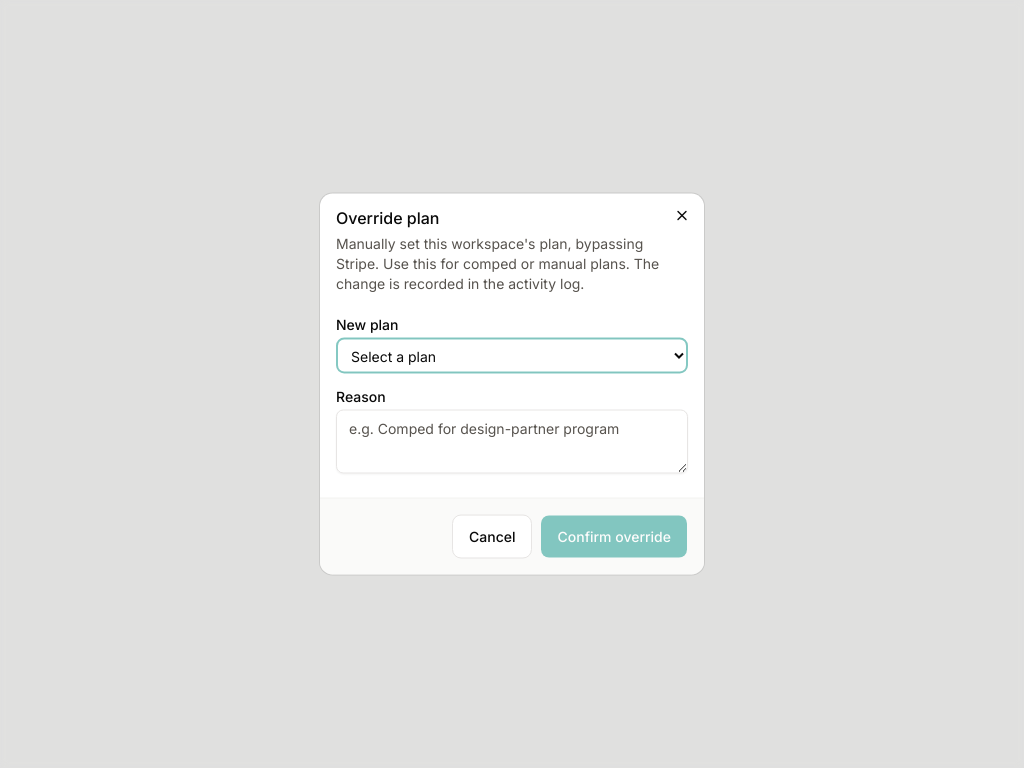
Test case: PlanOverrideDialog › disables Confirm until both a plan and a reason are provided
The width and height of the screenshot is (1024, 768).
Expected: the button "Confirm override" is disabled, x1=540 y1=514 x2=688 y2=558
Select "Pro" in the dropdown labelled "New plan" at (512, 356), box x1=336 y1=338 x2=688 y2=374
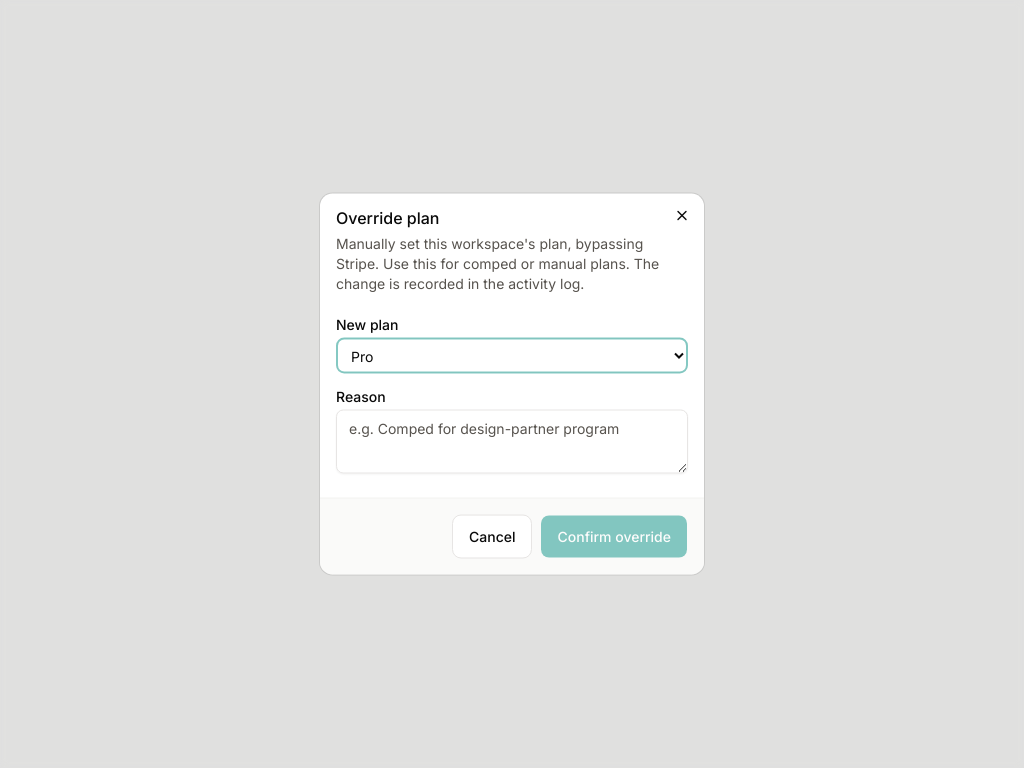
Expected: the button "Confirm override" is disabled, x1=540 y1=514 x2=688 y2=558
Type "comped" into the text box labelled "Reason" at (512, 442), box x1=336 y1=410 x2=688 y2=474
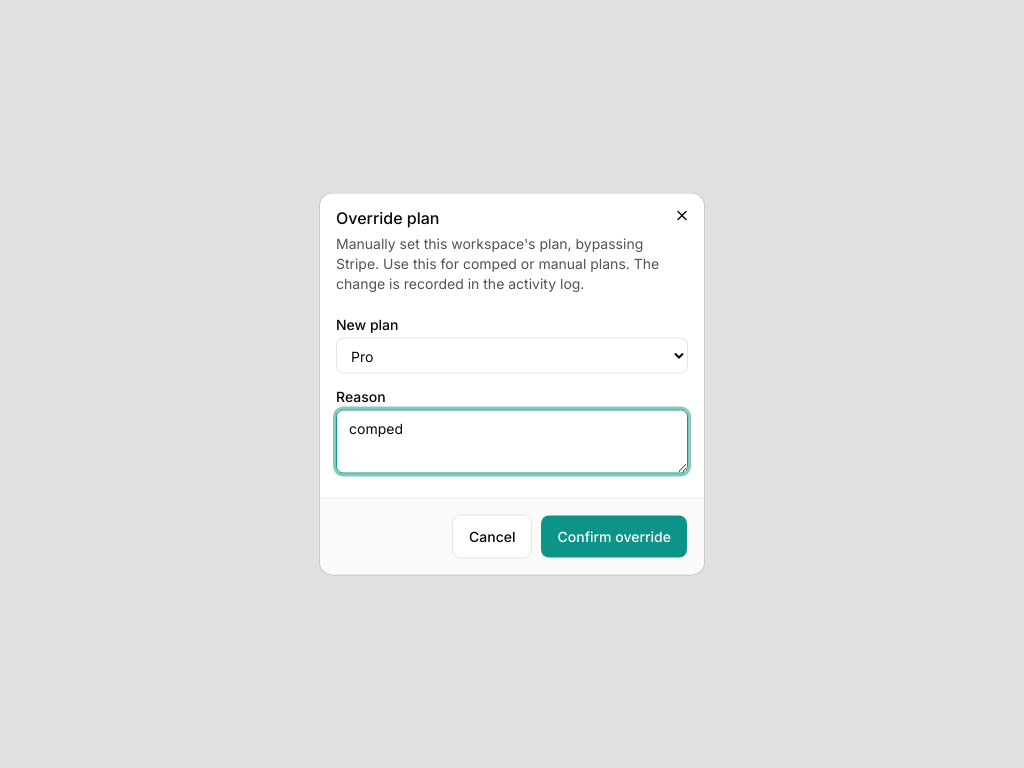
Result: the button "Confirm override" is enabled at x1=540 y1=514 x2=688 y2=558
